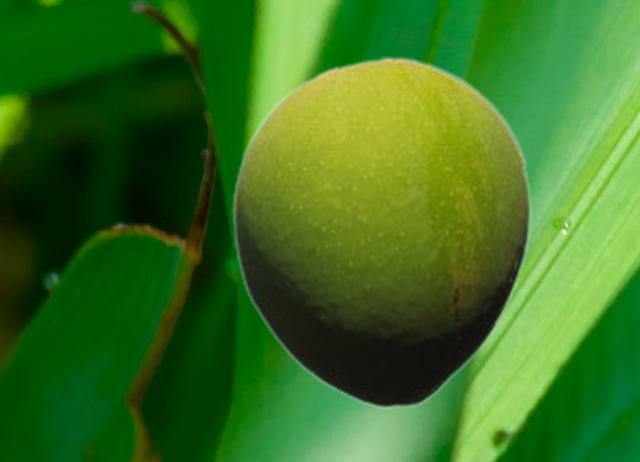green_mango: (231, 56, 532, 409)
